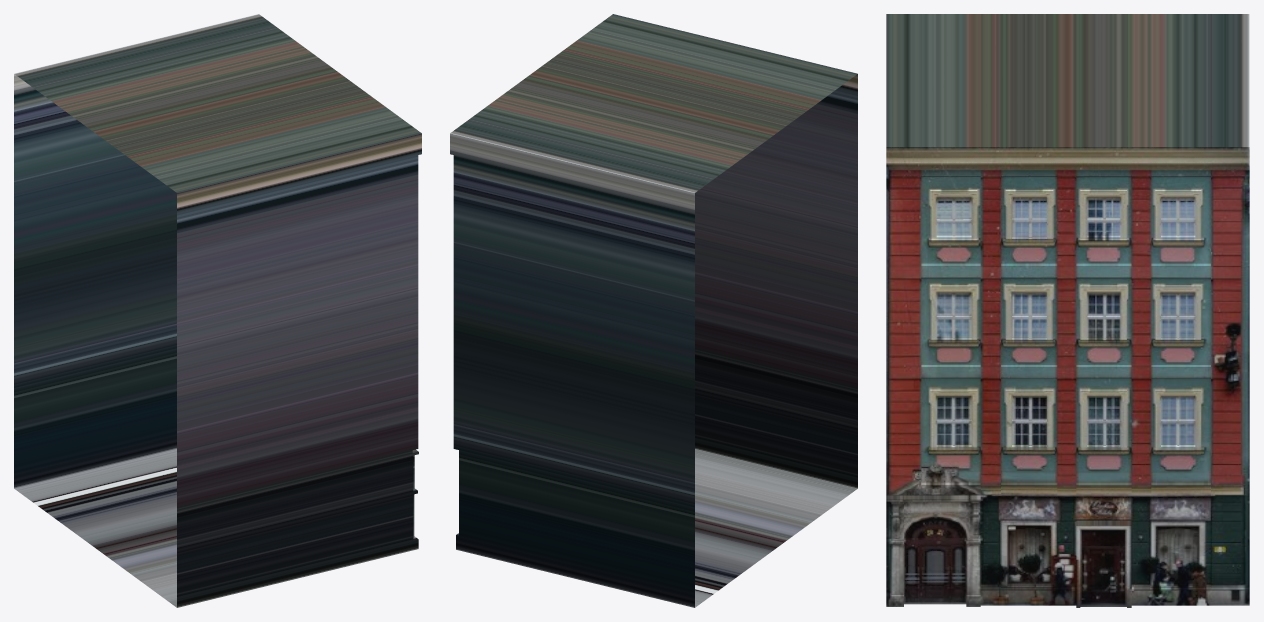
The model's file is BUILDING01grey.glb.
3 views of the same model, side by side, from view 1: azimuth 30°, elevation 25°; view 2: azimuth 150°, elevation 25°; view 3: azimuth 270°, elevation 25° (orthographic). The views are drawn at different scales.
Parts seen in each view (by area): view 1: Empty.001; view 2: Empty.001; view 3: Empty.001.
Part boxes in pixels (x1,y1,x2,y2): Empty.001: (14,14,421,607); Empty.001: (450,14,857,607); Empty.001: (886,14,1249,607).
Bounding box in the file's own units: 11.18 × 18.1 × 12.9.
Materials: 1 (1 with a texture image).
